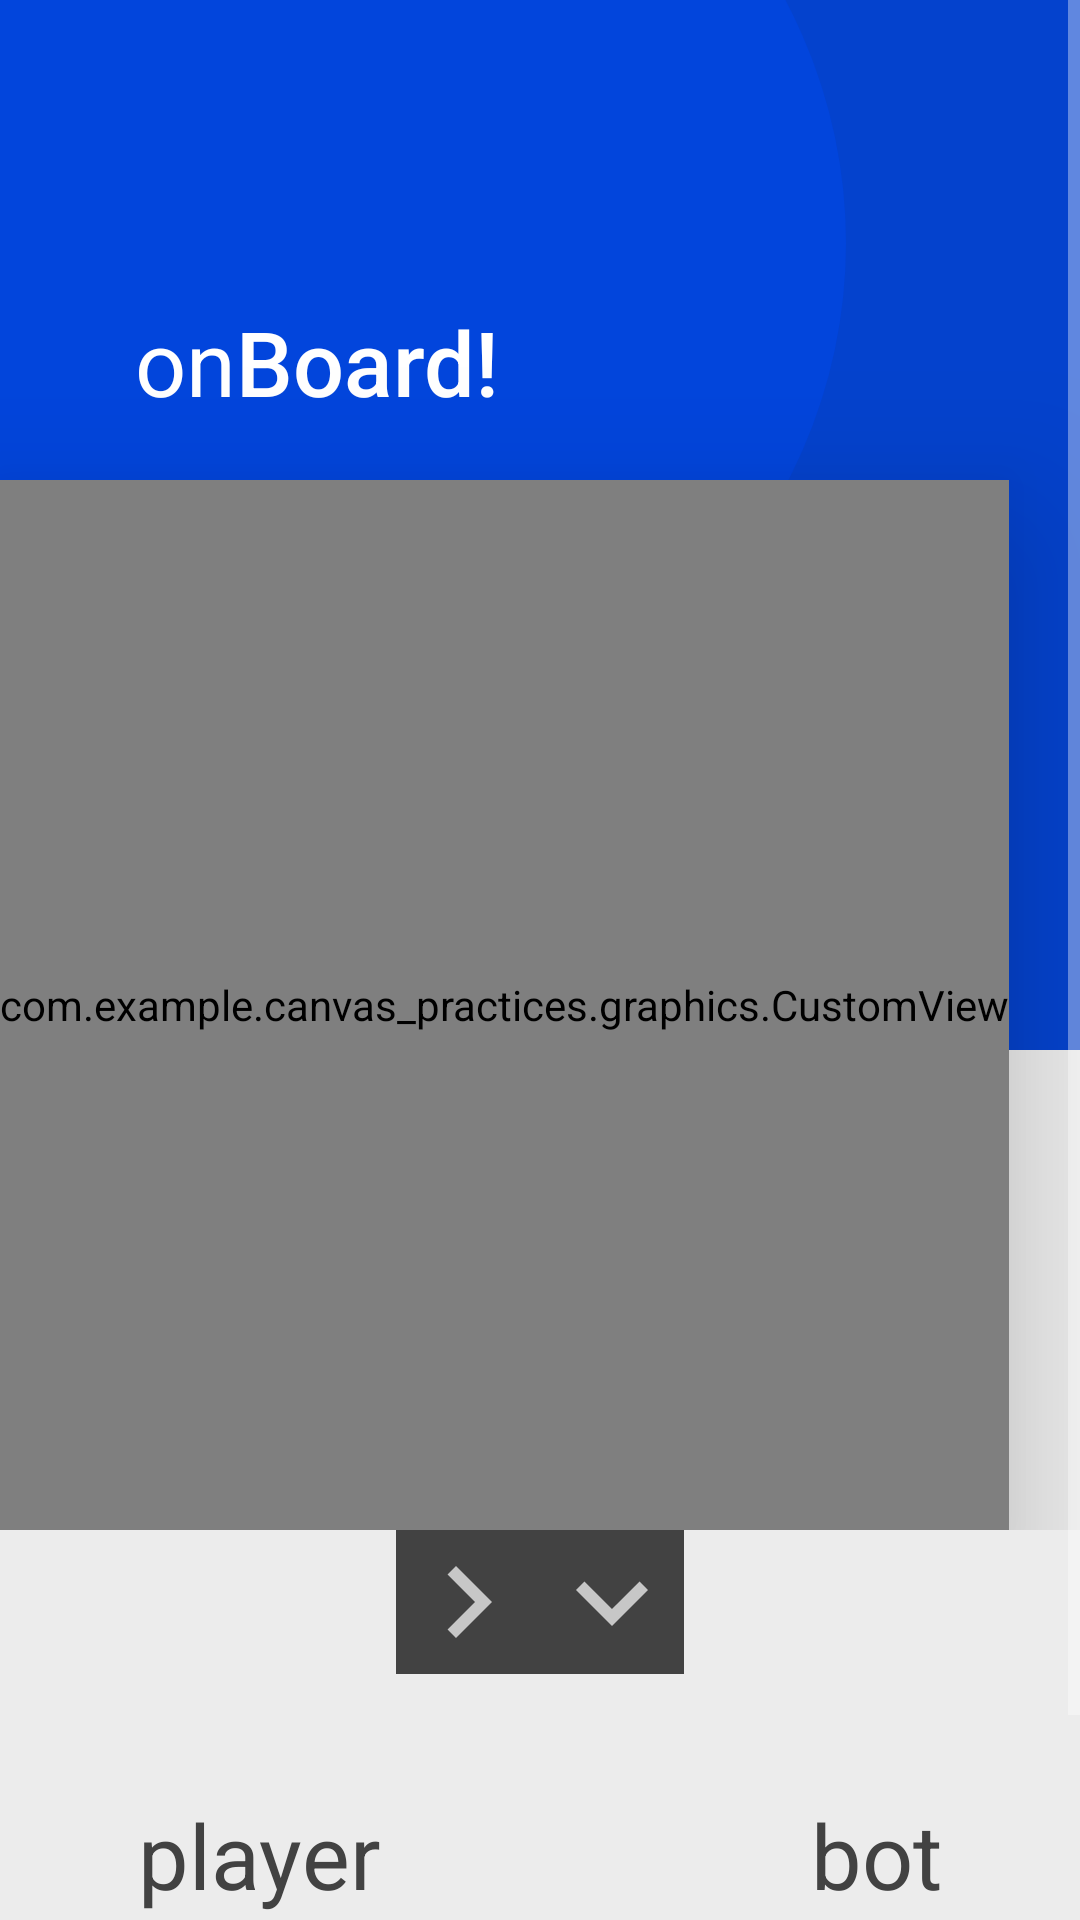

Screen size 1080px x 1920px. Icon name, then its center in pixels as [x,y]:
button to move right: [468,1602]
